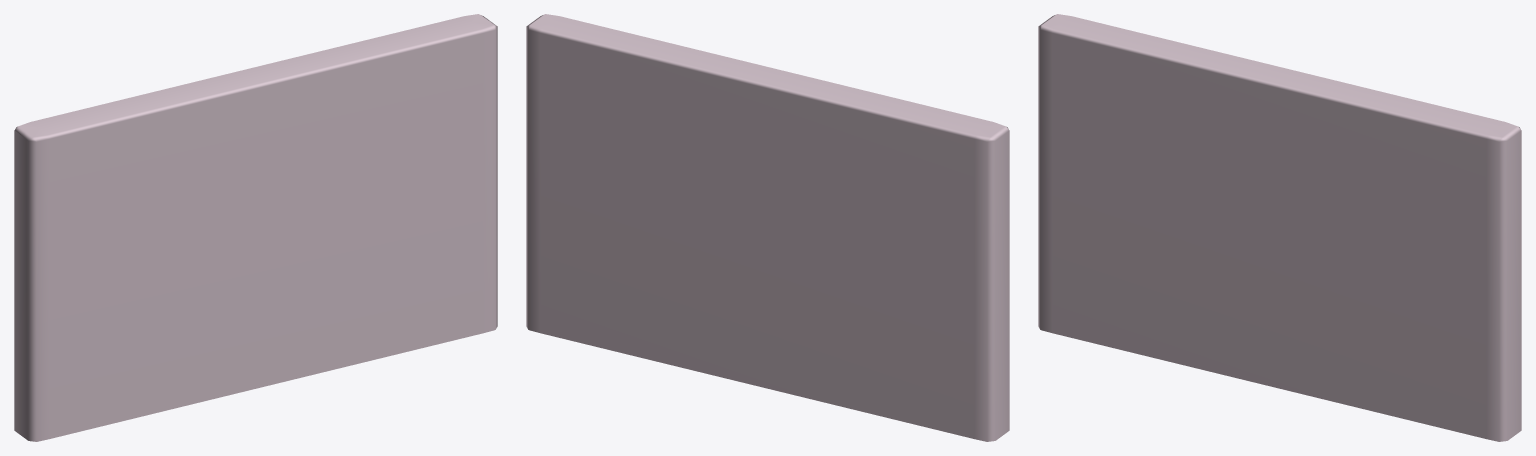
The model's file is mod_sc_roma_001_ar09_wall_018.FBX.
The picture shows the model from 3 angles, left to right: view 1: azimuth 30°, elevation 25°; view 2: azimuth 150°, elevation 25°; view 3: azimuth 330°, elevation 25°; orthographic projection.
Visible parts, largest first — view 1: mod_sc_roma_001_ar09_wall_018; view 2: mod_sc_roma_001_ar09_wall_018; view 3: mod_sc_roma_001_ar09_wall_018.
Boxes of the visible parts, bbox=[...] form: mod_sc_roma_001_ar09_wall_018: bbox=[14, 14, 497, 441]; mod_sc_roma_001_ar09_wall_018: bbox=[526, 14, 1009, 441]; mod_sc_roma_001_ar09_wall_018: bbox=[1038, 14, 1521, 441].
Size of the model in its own units: 648 by 400 by 50.
